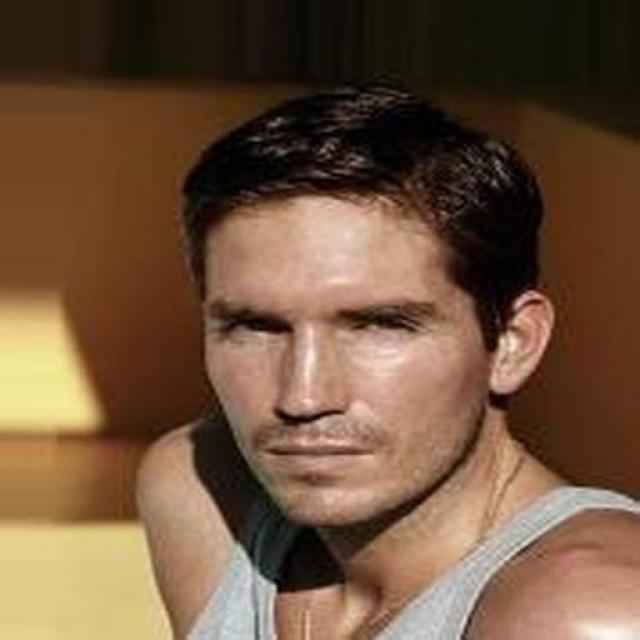bareface: (189, 108, 549, 519)
